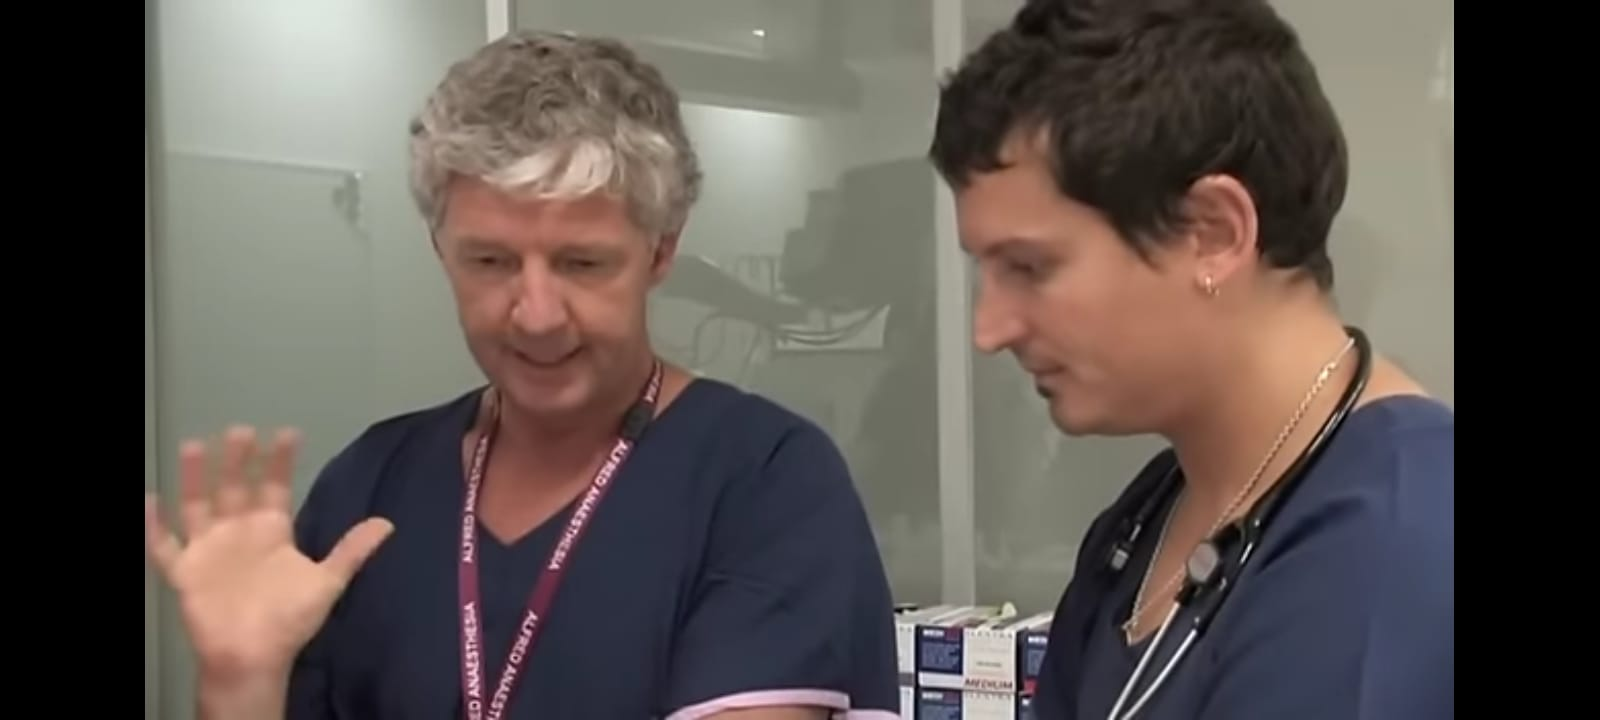doctor: (147, 27, 903, 720)
